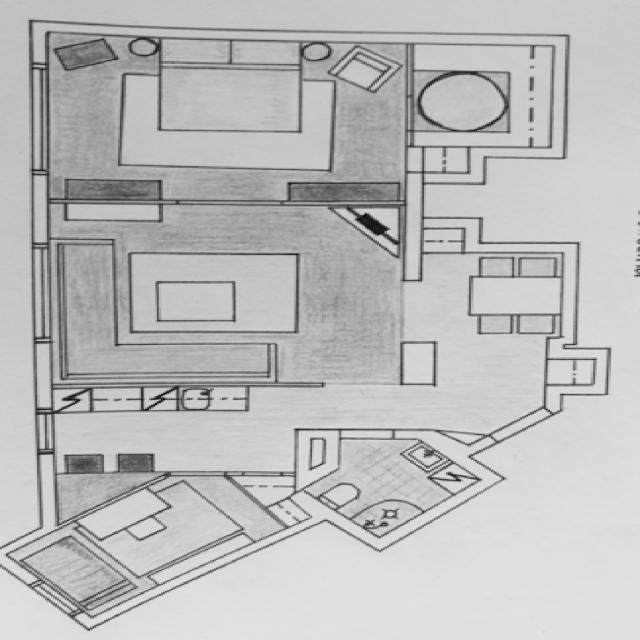window: (12, 55, 62, 184), (19, 232, 69, 354), (19, 570, 86, 624), (20, 404, 69, 457)
zone: (23, 196, 410, 382), (42, 27, 404, 202), (47, 474, 301, 610), (39, 384, 309, 474), (401, 244, 557, 389), (406, 32, 561, 172), (316, 430, 467, 528)
